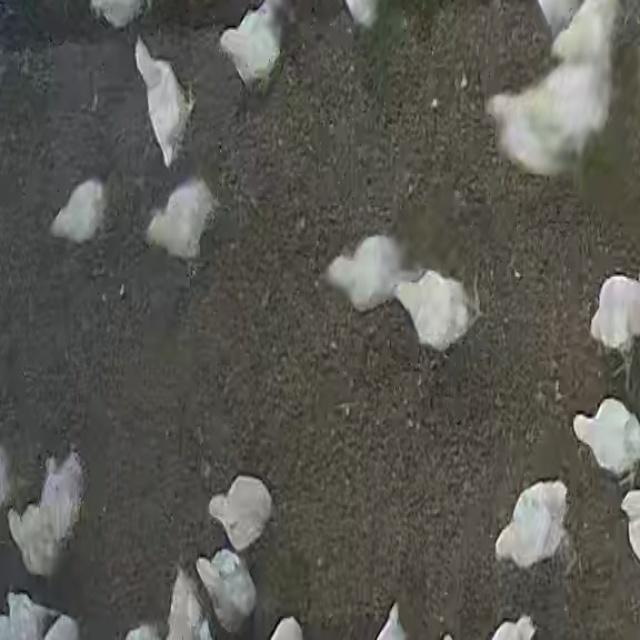chicken: (493, 467, 568, 570), (135, 39, 194, 163), (379, 277, 465, 351), (218, 4, 286, 94), (324, 233, 407, 305), (573, 393, 640, 481), (150, 181, 219, 264), (202, 473, 270, 548), (7, 498, 72, 575), (195, 556, 259, 621), (596, 272, 640, 362), (42, 451, 88, 533), (53, 182, 111, 244)
